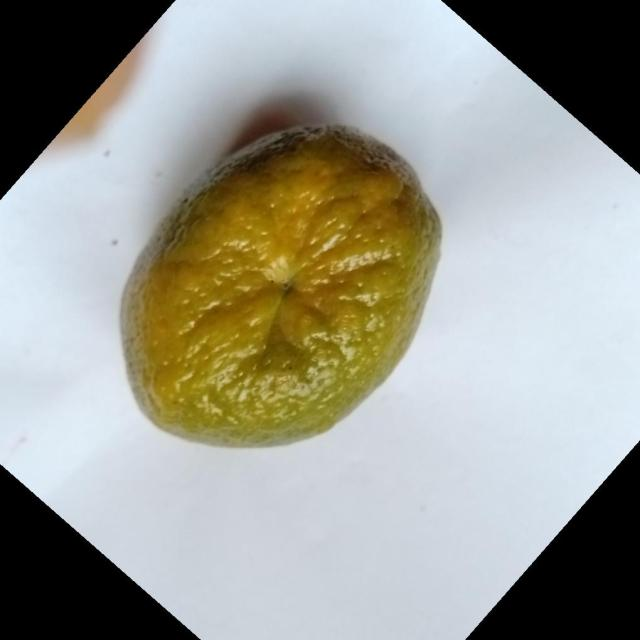fresh orange: (118, 122, 442, 449)
